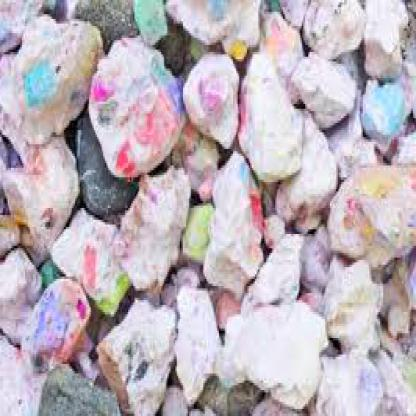Sedimentary_Chalk: (88, 38, 397, 397)
